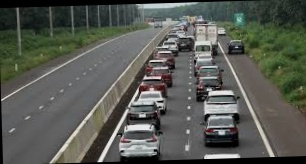Bien-so: (136, 116, 143, 123), (131, 149, 138, 154), (211, 139, 217, 144)
